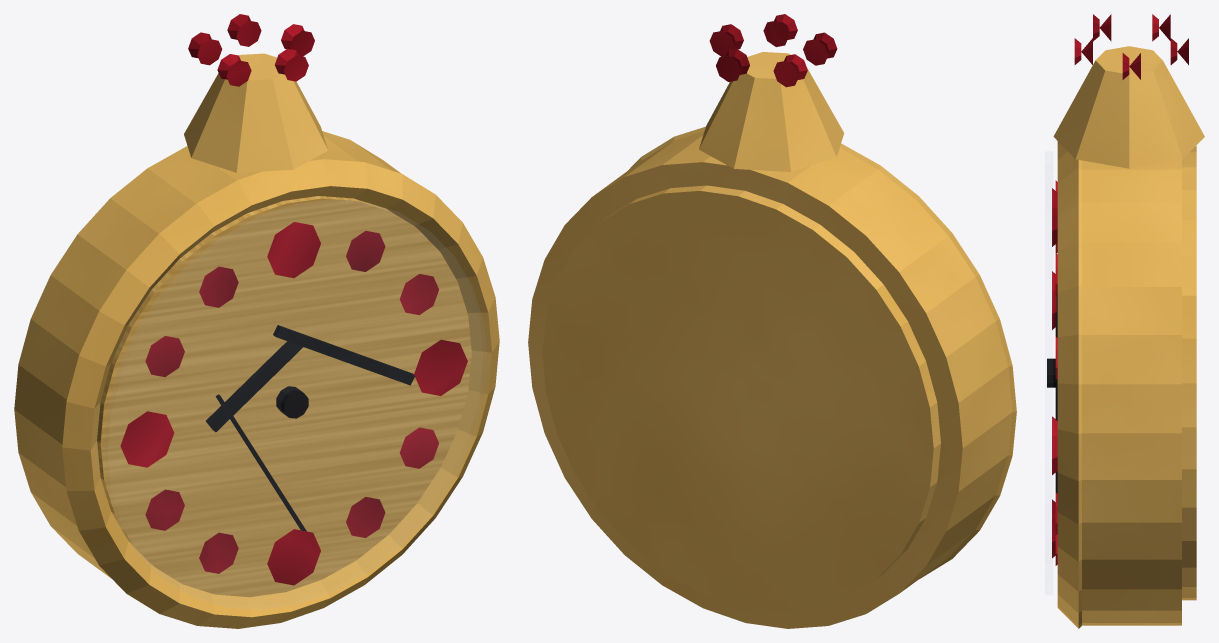
The model's file is mdl_reloj_real.fbx.
3 renders of one model, left to right at view 1: azimuth 30°, elevation 25°; view 2: azimuth 150°, elevation 25°; view 3: azimuth 270°, elevation 25°, orthographic.
Parts seen in each view (by area): view 1: metal_oro_cepillado, metal_oro_pulido, gema_rubi, esmalte_negro; view 2: metal_oro_pulido, gema_rubi; view 3: metal_oro_pulido, gema_rubi, esmalte_negro.
Part boxes in pixels (x1,y1,x2,y2): metal_oro_cepillado: [97, 196, 471, 597]; metal_oro_pulido: [14, 53, 499, 628]; gema_rubi: [120, 14, 467, 585]; esmalte_negro: [206, 325, 414, 531]; metal_oro_pulido: [528, 52, 1016, 628]; gema_rubi: [709, 14, 837, 87]; metal_oro_pulido: [1053, 46, 1204, 628]; gema_rubi: [1052, 14, 1188, 565]; esmalte_negro: [1047, 295, 1057, 493].
Size of the model in its own units: 122 by 150 by 38.
